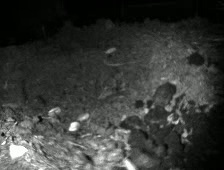corn: (7, 142, 29, 160), (47, 105, 63, 119), (68, 120, 82, 133), (76, 111, 90, 123), (104, 45, 119, 54)
